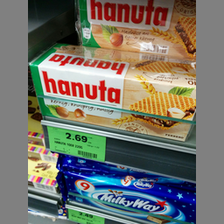chocolate: (28, 41, 196, 119), (57, 168, 196, 224), (76, 1, 196, 57)
